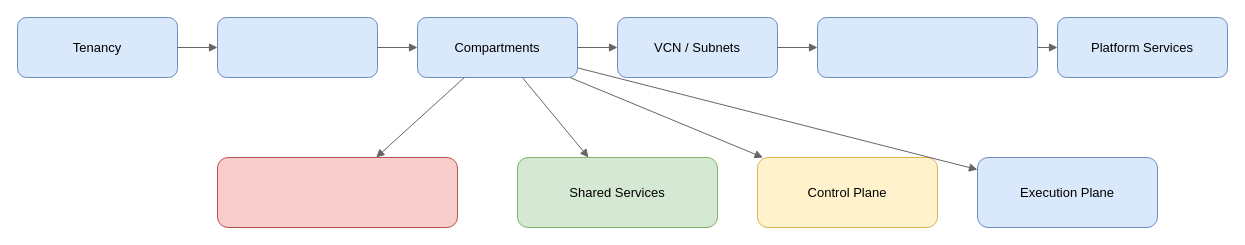
Some shapes in this 1245 by 245 pixel diagram are drawn without their labels. Each missing label, with the centre of its shape:
"Identity Domains" goes at point (297, 47).
"Security / Tagging / Logging" goes at point (927, 47).
"Workload Compartments" goes at point (337, 192).
